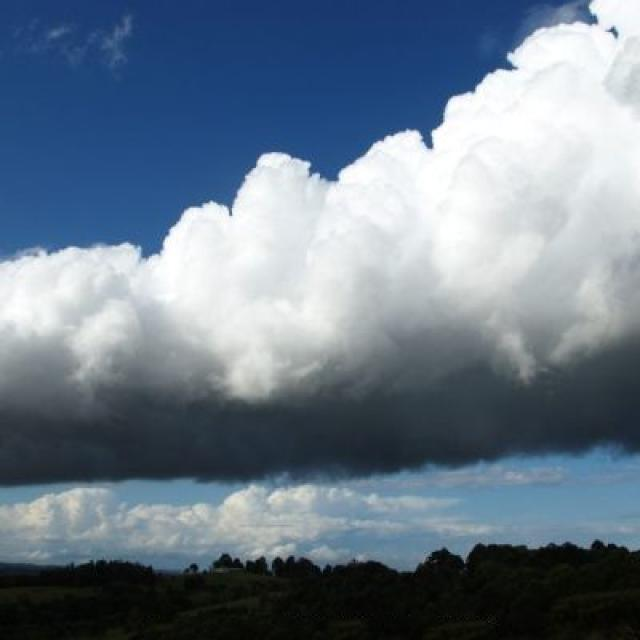Cu: (11, 97, 640, 418)
